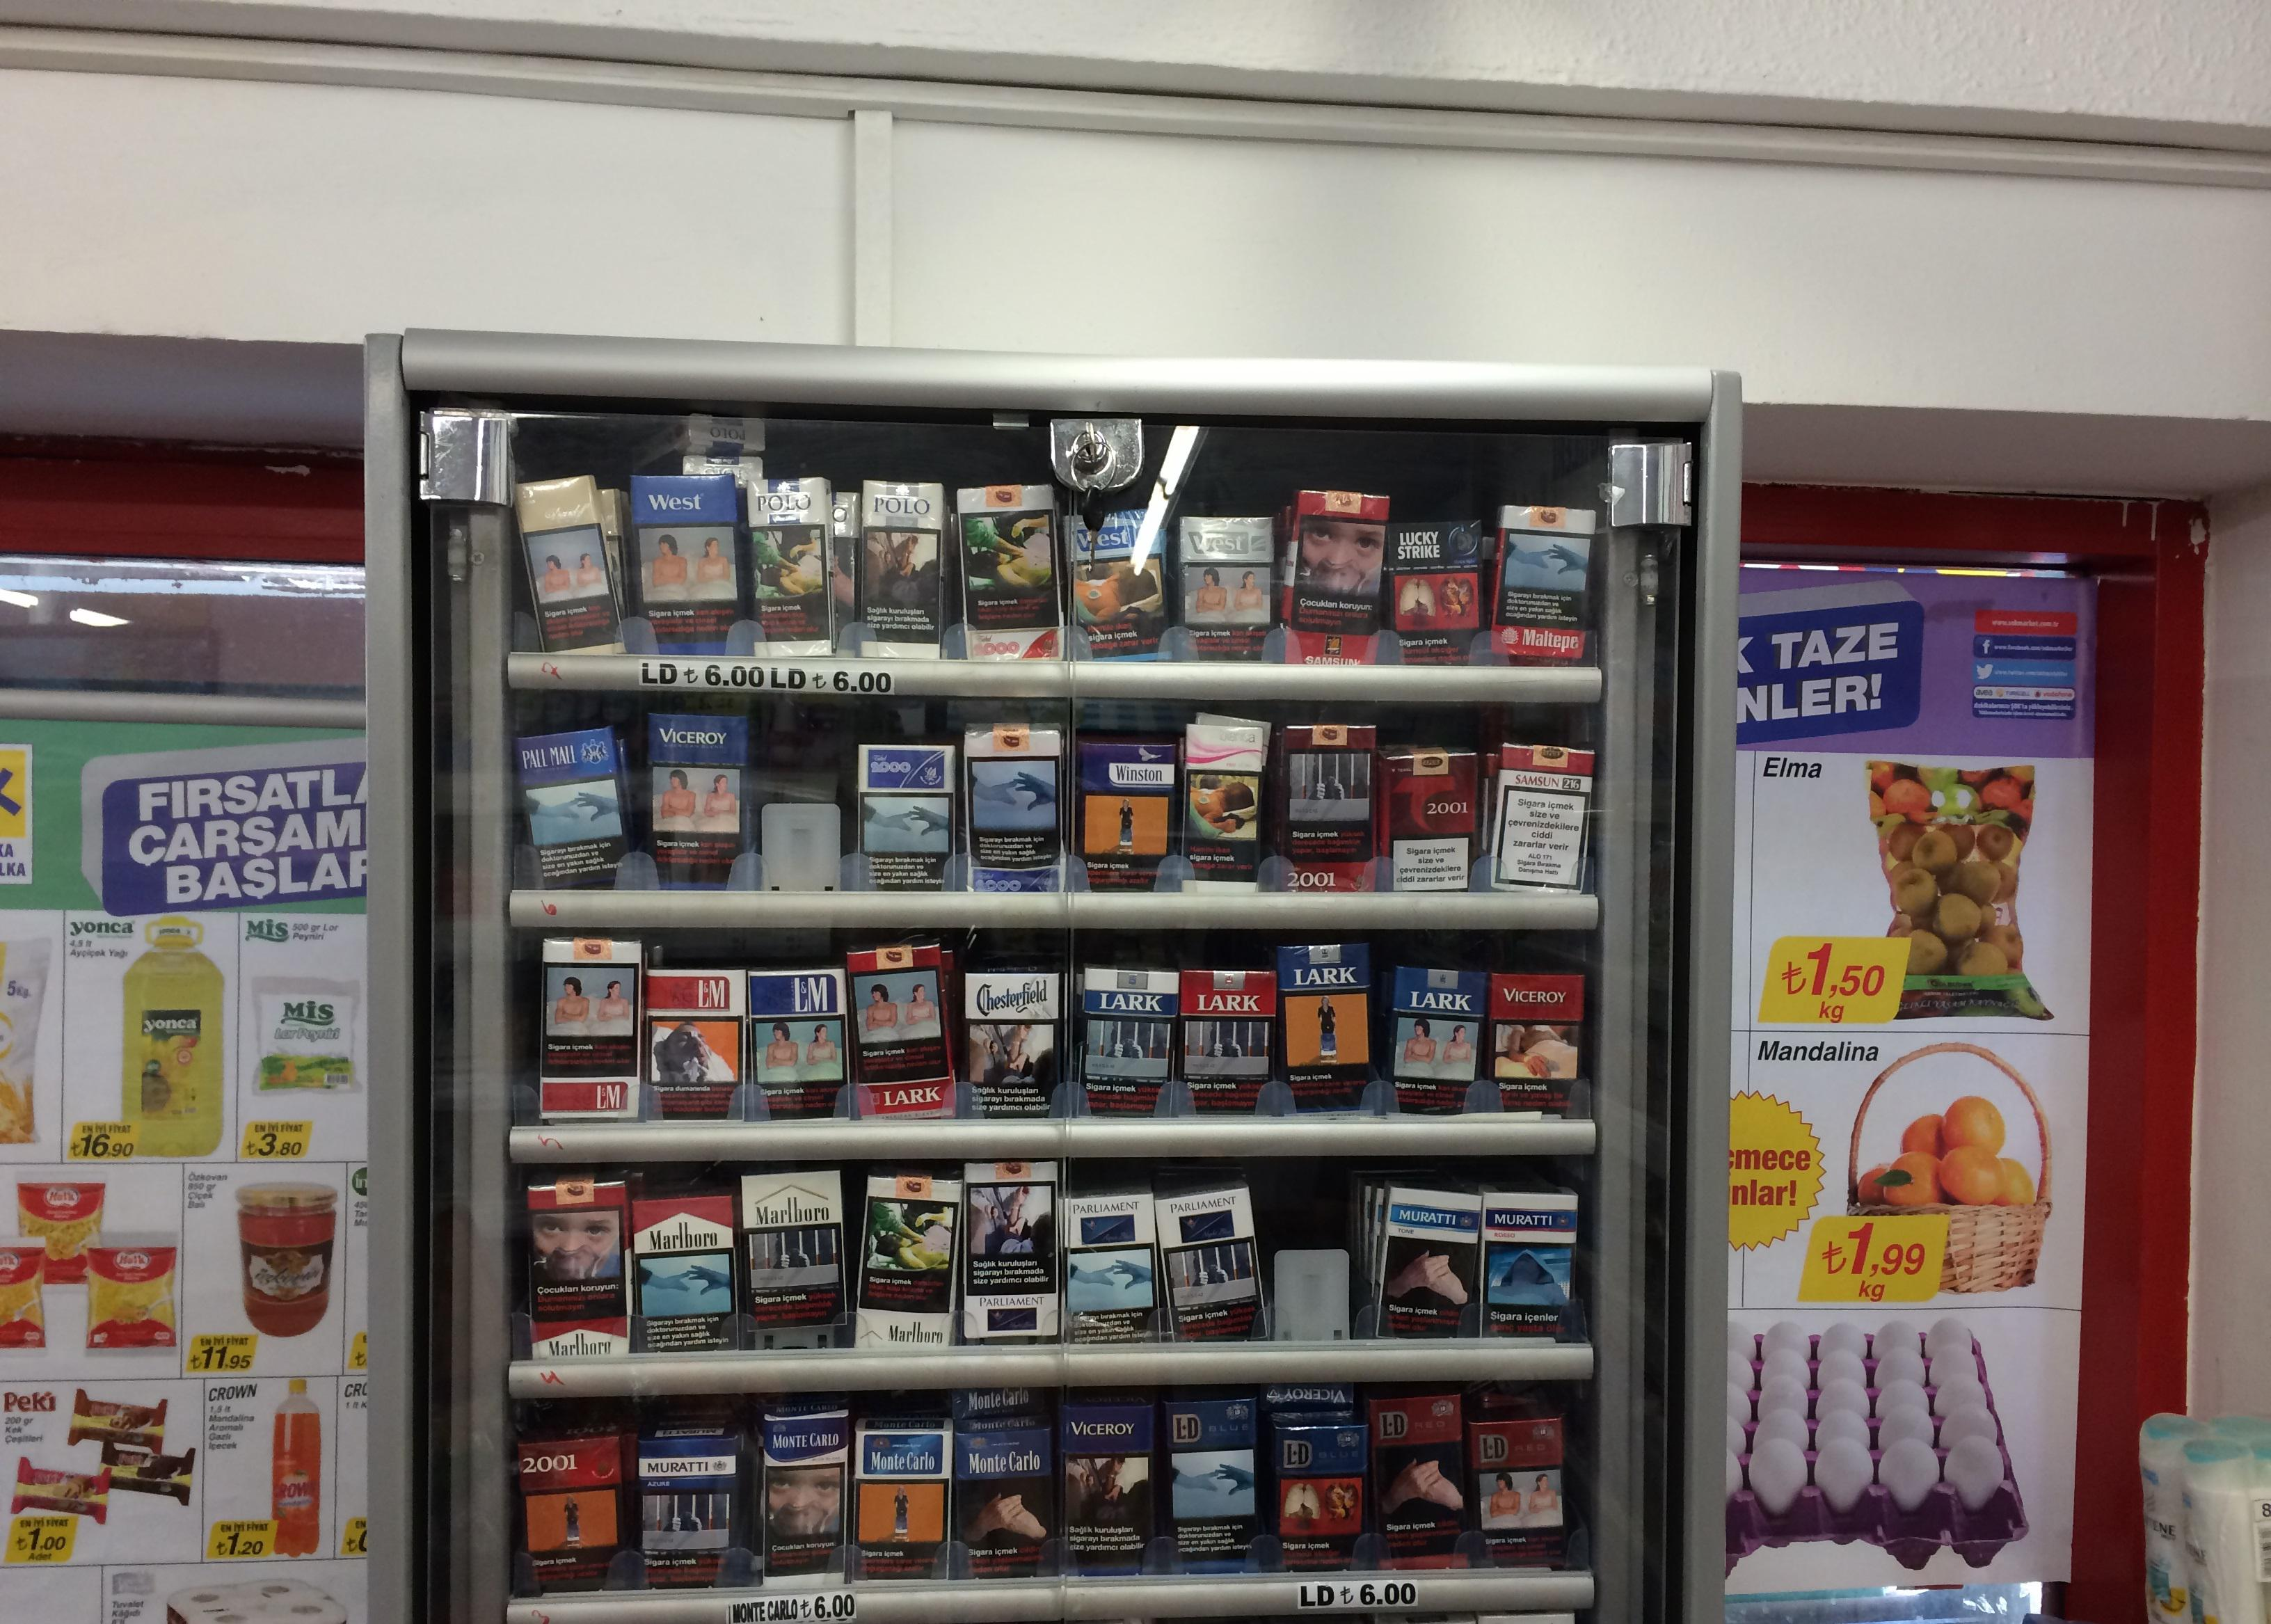product: (624, 1415, 754, 1591), (519, 1167, 635, 1362), (949, 1148, 1067, 1334), (533, 928, 647, 1120), (1253, 1396, 1376, 1568), (733, 1169, 854, 1343), (733, 471, 847, 656), (520, 468, 635, 652), (629, 471, 744, 656), (1276, 482, 1389, 668), (844, 475, 958, 657), (953, 480, 1067, 663), (849, 1167, 958, 1357), (853, 942, 967, 1123), (1150, 1190, 1278, 1348), (1355, 1390, 1477, 1557), (1462, 1176, 1582, 1345), (958, 724, 1072, 900), (1069, 719, 1183, 895), (1164, 714, 1278, 889), (642, 705, 754, 881), (510, 1425, 635, 1584), (1058, 494, 1172, 666), (1169, 494, 1283, 666), (744, 1404, 858, 1577), (1276, 722, 1389, 896), (1484, 496, 1598, 663), (853, 724, 967, 886), (1278, 942, 1387, 1111), (744, 963, 858, 1123), (1459, 1392, 1568, 1559), (515, 724, 629, 882), (642, 963, 754, 1123), (629, 1178, 735, 1348), (1484, 738, 1598, 891), (1049, 1401, 1150, 1573), (1376, 749, 1489, 902), (1382, 513, 1496, 661), (1178, 949, 1281, 1111), (1155, 1404, 1262, 1559), (947, 1415, 1055, 1568), (958, 963, 1063, 1116), (1373, 1183, 1478, 1336), (1069, 958, 1176, 1106), (1383, 958, 1482, 1111), (1489, 953, 1587, 1106), (858, 1424, 949, 1584), (1063, 1186, 1153, 1339)
